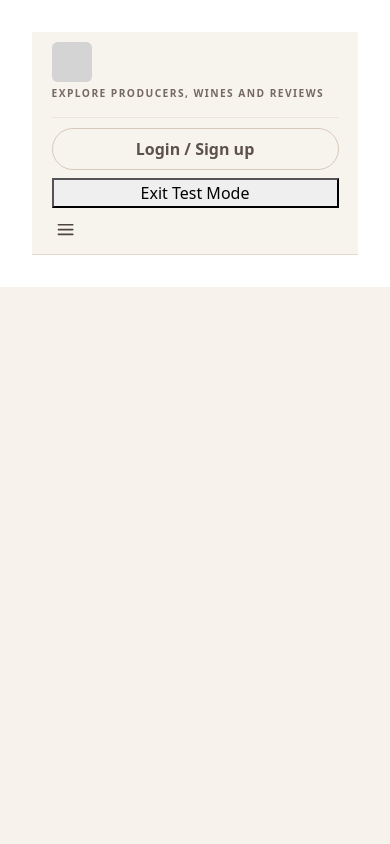
Test: Header mobile menu › collapses the menu when the button is clicked again
The image size is (390, 844).
What coordinates should you click on to do the following:
click the button named "Open menu"
I would click on:
 (65, 230)
Its box is [52,216,79,244].
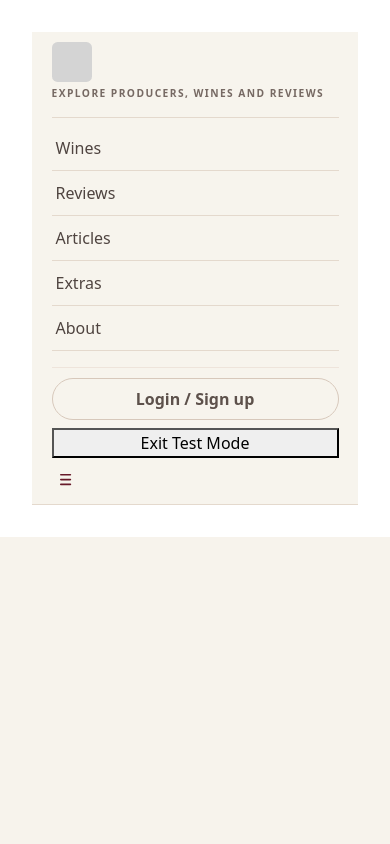
What coordinates should you click on to do the following:
click the button named "Open menu"
I would click on:
 (65, 480)
Its box is [52,466,79,494].
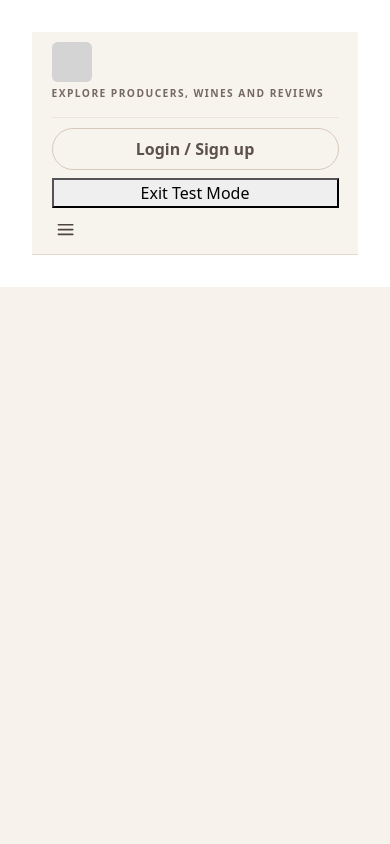
Expected: the button named "Open menu" is collapsed, [52,216,79,244]
